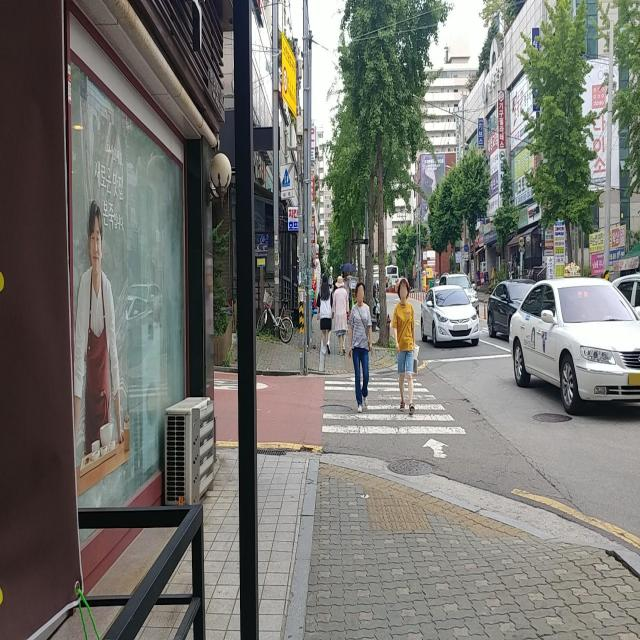횡단보도: (321, 375, 466, 459)
